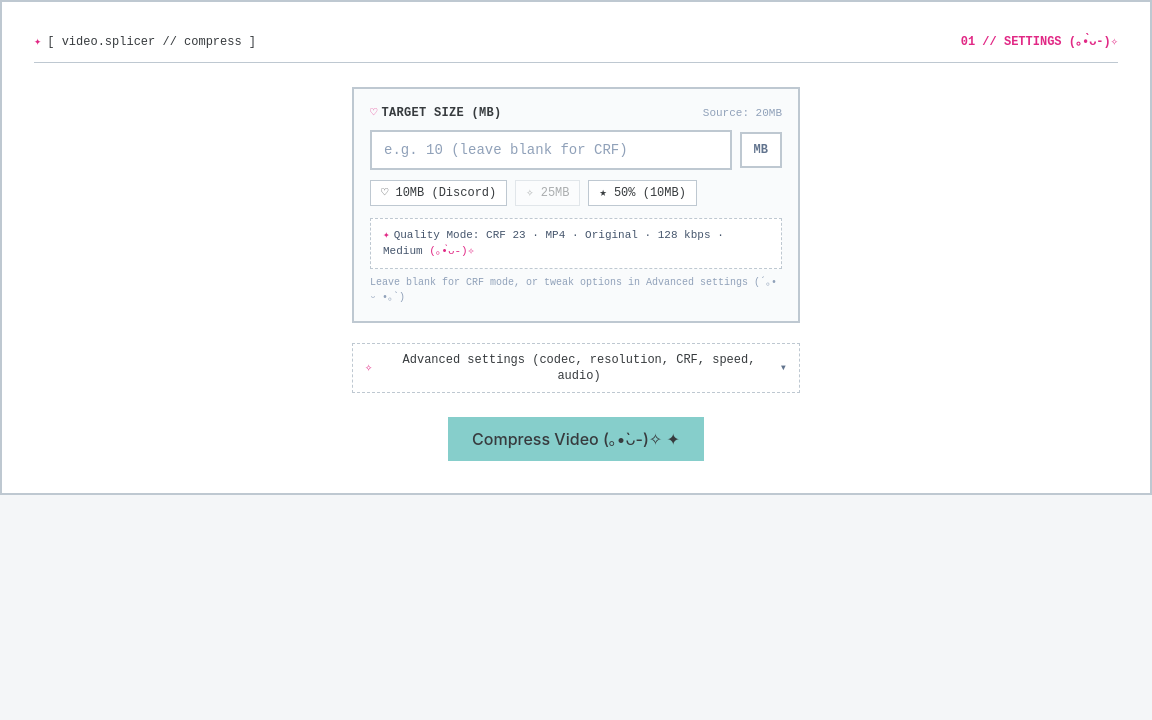
CompressionPanel › form validation and format/codec pairing › auto-selects compatible codec when switching between MP4 and WebM and clamps CRF
The width and height of the screenshot is (1152, 720).
Click the button with test id "toggle-advanced-btn" at (576, 368), box [352, 342, 800, 392]
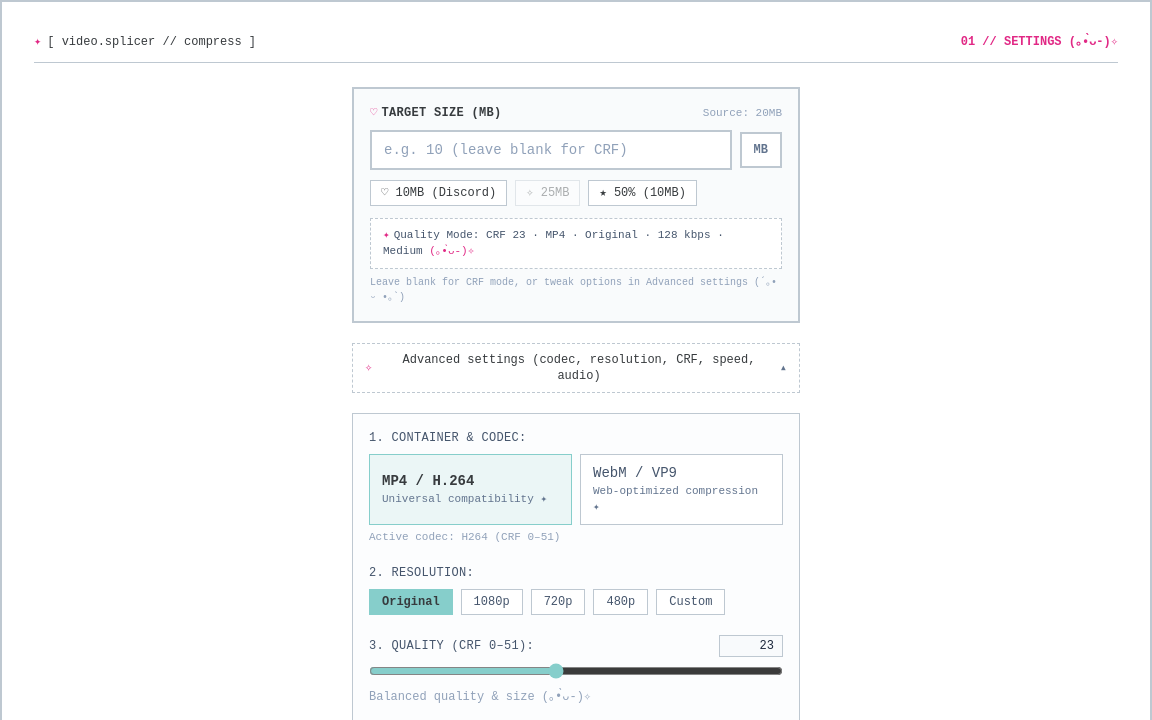
expect the text with test id "selected-codec-info" reads "Active codec: H264 (CRF 0–51)": met, box [369, 530, 560, 542]
Click the radio button with test id "format-webm" at (682, 489), box [580, 454, 783, 524]
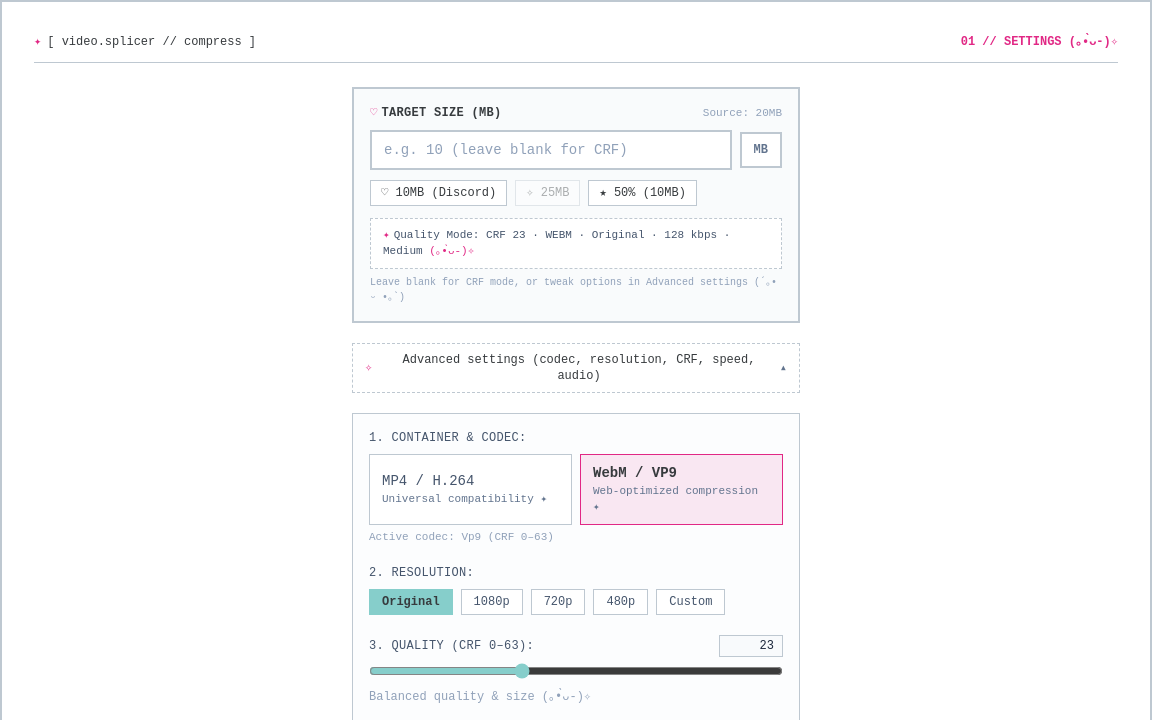
expect the text with test id "selected-codec-info" reads "Active codec: Vp9 (CRF 0–63)": met, box [369, 530, 554, 542]
Replace the text in the field with test id "crf-input" with "60" at (751, 646), box [719, 635, 783, 657]
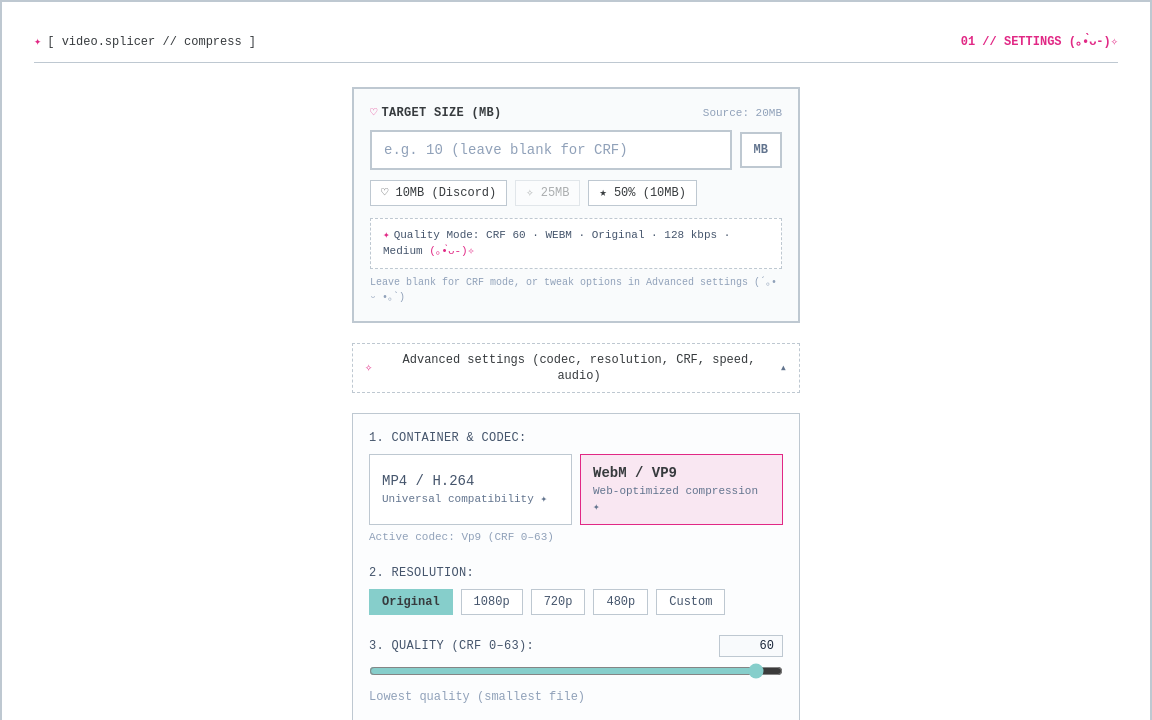
Switching back to MP4 auto-selects H264 and clamps CRF to 51
Click the radio button with test id "format-mp4" at (470, 489), box [369, 454, 572, 524]
(page scrolled)
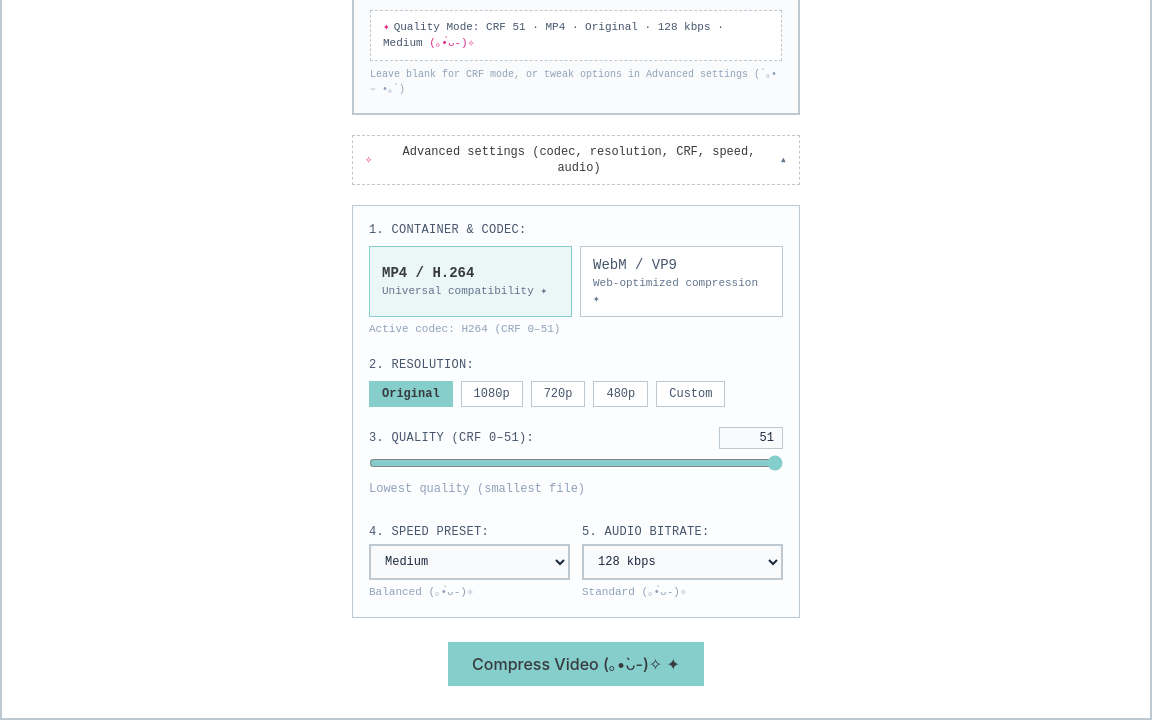
expect the text with test id "preset-hint" shows "Balanced": met, box [369, 586, 474, 598]
expect the text with test id "selected-codec-info" reads "Active codec: H264 (CRF 0–51)": met, box [369, 322, 560, 334]
expect the field with test id "crf-input" holds "51": met, box [719, 427, 783, 449]
